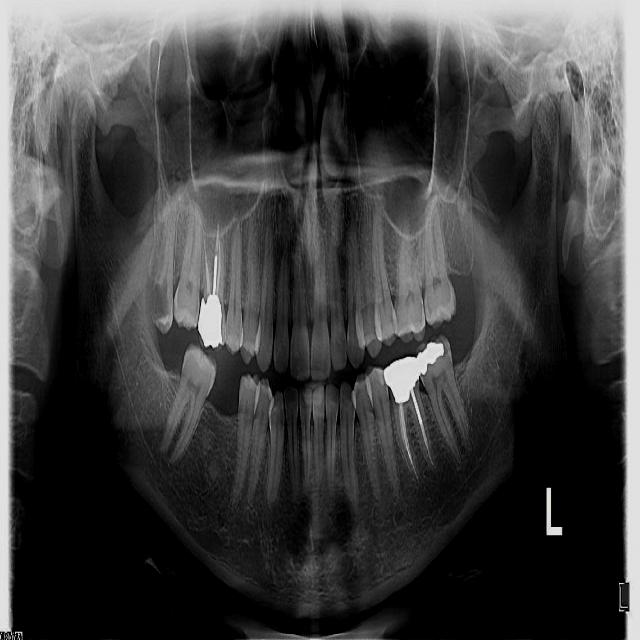Caries: (150, 281, 170, 322), (437, 336, 450, 359)
Filling: (384, 357, 420, 404), (197, 294, 223, 348), (416, 343, 445, 377)
Missing teeth: (202, 367, 242, 420)
Root Canal Treatment: (399, 401, 418, 480), (419, 422, 433, 464), (203, 234, 211, 296), (216, 241, 221, 296), (215, 224, 220, 252)
